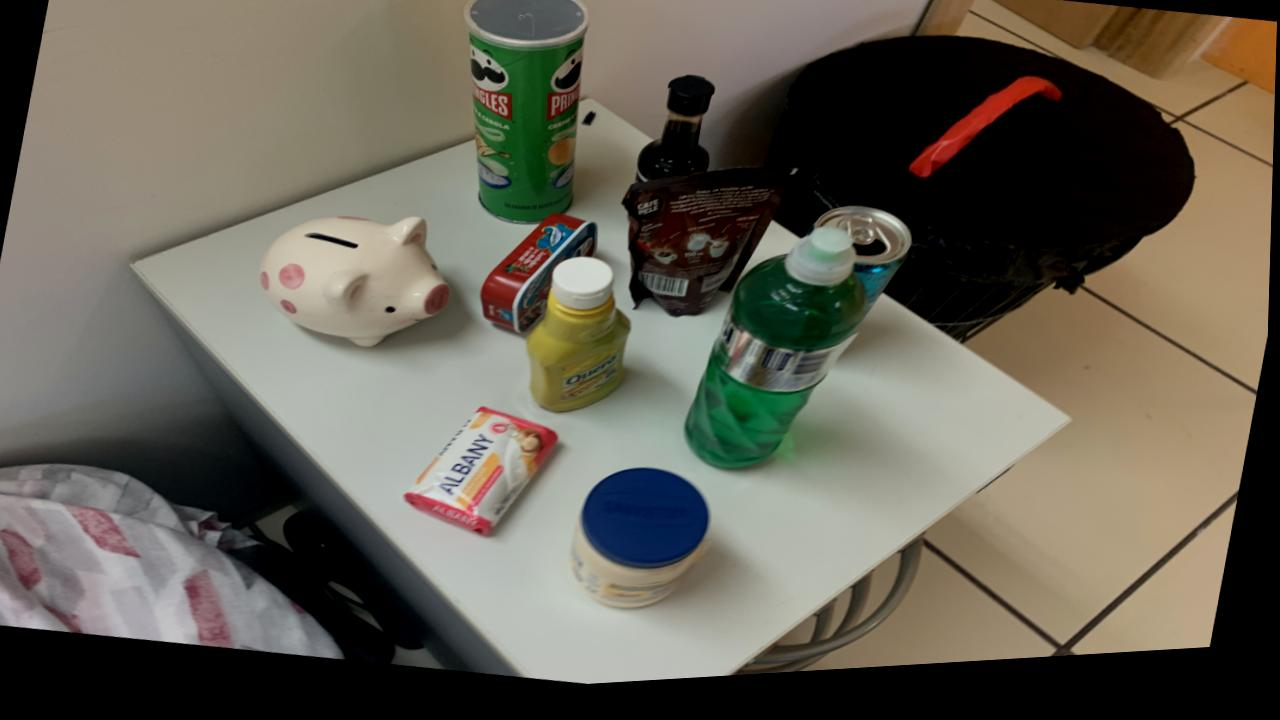Coffee-Pantry_Items: (623, 176, 794, 324)
Detergent-Cleanup_Items: (687, 236, 870, 478)
English_Sauce-Pantry_Items: (637, 83, 716, 189)
Mayonnaise-Pantry_Items: (574, 476, 714, 616)
Mustard-Pantry_Items: (529, 264, 634, 419)
Pig_Safe-Miscellaneous: (261, 220, 452, 351)
Pringles-Snacks: (464, 0, 589, 230)
Soap-Cleanup_Items: (407, 413, 561, 541)
Tea-Drinks: (816, 216, 915, 319)
Tuna_Can-Pantry_Items: (483, 221, 600, 339)
